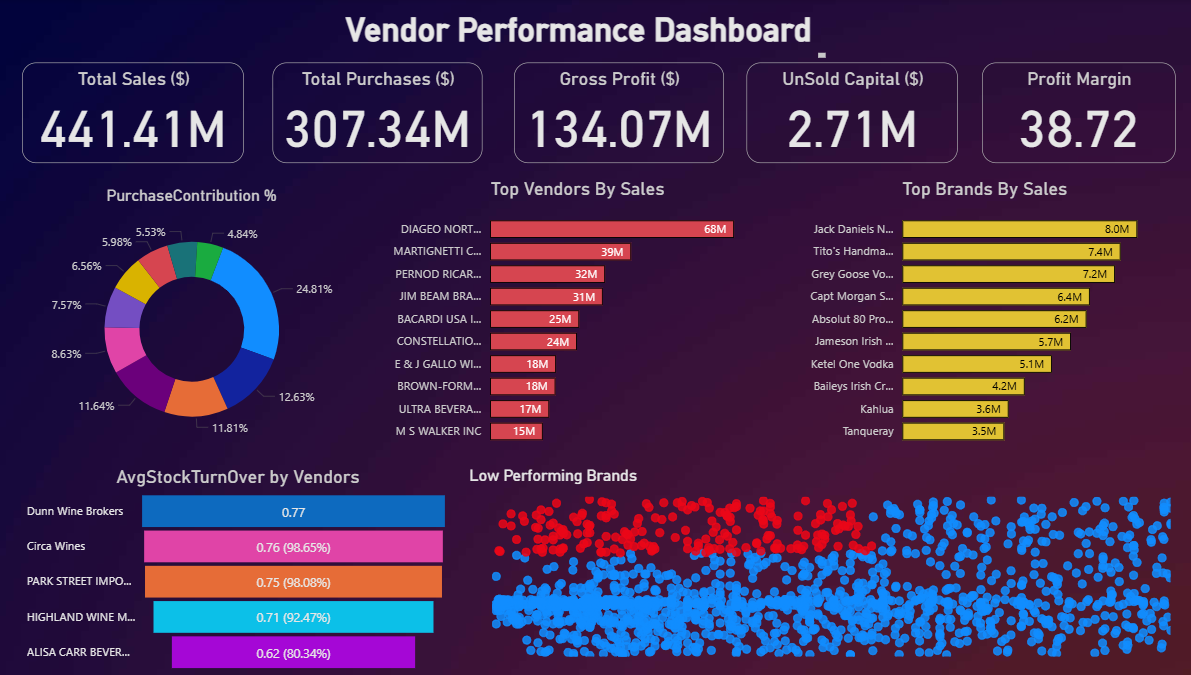

The page's visual inventory and layout, read from the dashboard file:
{"tool":"powerbi","page":{"name":"Page 1","canvas":[1280,720],"ordinal":0},"visuals":[{"type":"card","title":"Total Sales ($)","fields":{"Values":["Sum(vendor_sales_summary.TotalSalesDollars)"]},"box":[25.4,68.4,235.4,106.6],"z":0},{"type":"card","title":"Total Purchases ($)","fields":{"Values":["Sum(vendor_sales_summary.TotalPurchaseDollars)"]},"box":[291.1,68.4,222.7,106.6],"z":1000},{"type":"card","title":"Gross Profit ($)","fields":{"Values":["Sum(vendor_sales_summary.GrossProfit)"]},"box":[547.2,68.4,222.7,106.6],"z":2000},{"type":"card","title":"Profit Margin","fields":{"Values":["Avg(vendor_sales_summary.ProfitMargin)"]},"box":[1043.4,68.4,205.2,106.6],"z":3000},{"type":"card","title":"UnSold Capital ($)","fields":{"Values":["Sum(vendor_sales_summary.UnsoldCapital)"]},"box":[793.7,68.4,224.3,106.6],"z":4000},{"type":"textbox","title":"Vendor Performance Dashboard","box":[348.3,12.7,534.4,55.7],"z":5000},{"type":"clusteredBarChart","title":"Top Vendors By Sales","fields":{"Y":["Sum(vendor_sales_summary.TotalSalesDollars)"],"Category":["vendor_sales_summary.VendorName"]},"box":[402.4,190.9,424.7,292.7],"z":6000},{"type":"clusteredBarChart","title":"Top Brands By Sales","fields":{"Y":["Sum(vendor_sales_summary.TotalSalesDollars)"],"Category":["vendor_sales_summary.Description"]},"box":[844.6,190.9,404,292.7],"z":7000},{"type":"donutChart","title":"PurchaseContribution %","fields":{"Y":["Sum(PurchaseContribution.PurchaseContribution%)"],"Category":["PurchaseContribution.VendorName"]},"box":[25.4,198.8,359.5,284.7],"z":8000},{"type":"funnel","title":"AvgStockTurnOver by Vendors","fields":{"Category":["LowTurnOverVendor.VendorName"],"Y":["Avg(LowTurnOverVendor.AvgStockTurnOver)"]},"box":[25.4,496.3,458.1,222.7],"z":9000},{"type":"scatterChart","title":"Low Performing Brands","fields":{"X":["Sum(BrandPerformance.TotalSales)"],"Category":["BrandPerformance.Description"],"Y":["Sum(BrandPerformance.AvgProfitMargin)"],"Series":["BrandPerformance.TargetBrand"]},"box":[494.7,496.3,753.9,222.7],"z":10000}]}

Visuals, with their boxes in screenshot pixels (x1, y1, x2, y2), scaled from the page's 1280x720 canvas onto the 1191x675 screenshot:
"Total Sales ($)" card: (24, 64, 243, 164)
"Total Purchases ($)" card: (271, 64, 478, 164)
"Gross Profit ($)" card: (509, 64, 716, 164)
"Profit Margin" card: (971, 64, 1162, 164)
"UnSold Capital ($)" card: (739, 64, 947, 164)
"Vendor Performance Dashboard" textbox: (324, 12, 821, 64)
"Top Vendors By Sales" clusteredBarChart: (374, 179, 770, 453)
"Top Brands By Sales" clusteredBarChart: (786, 179, 1162, 453)
"PurchaseContribution %" donutChart: (24, 186, 358, 453)
"AvgStockTurnOver by Vendors" funnel: (24, 465, 450, 674)
"Low Performing Brands" scatterChart: (460, 465, 1162, 674)
